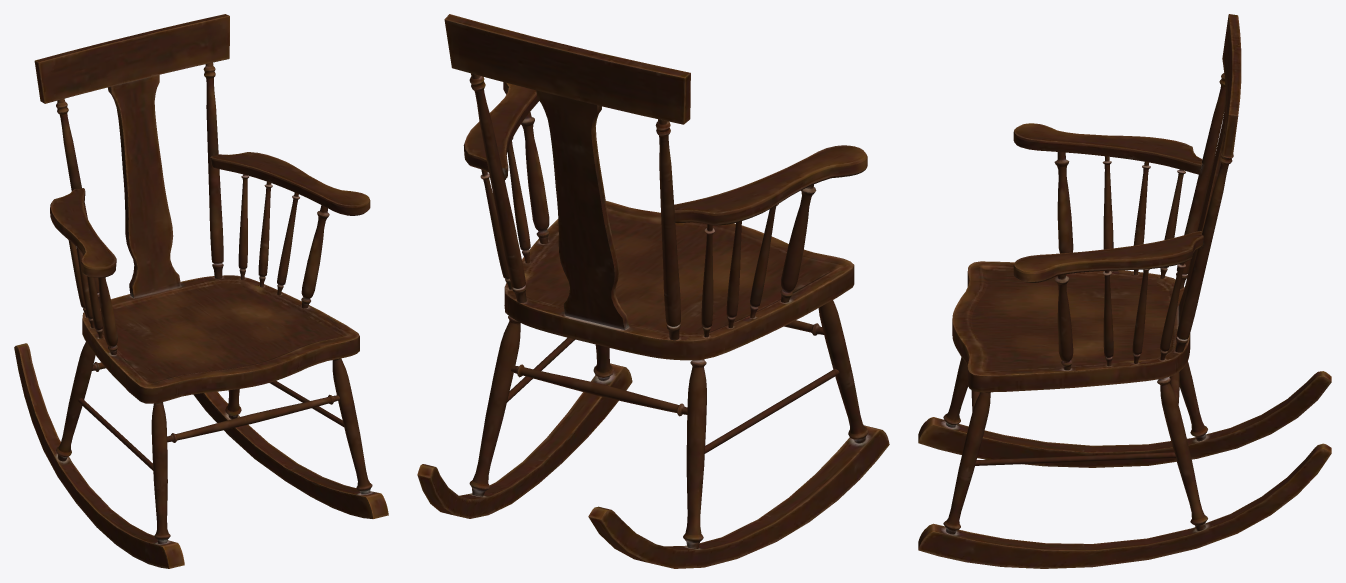
Rendered from rocking-chair.glb.
The picture shows the model from 3 angles, left to right: view 1: azimuth 30°, elevation 25°; view 2: azimuth 150°, elevation 25°; view 3: azimuth 270°, elevation 25°; orthographic projection. The views are drawn at different scales.
Parts seen in each view (by area): view 1: Rockingchair_01; view 2: Rockingchair_01; view 3: Rockingchair_01.
Boxes of the visible parts, bbox=[...] form: Rockingchair_01: bbox=[14, 14, 388, 568]; Rockingchair_01: bbox=[417, 14, 889, 568]; Rockingchair_01: bbox=[918, 14, 1331, 568].
Size of the model in its own units: 0.71 by 0.995 by 0.83.
Materials: 1 (1 with a texture image).
